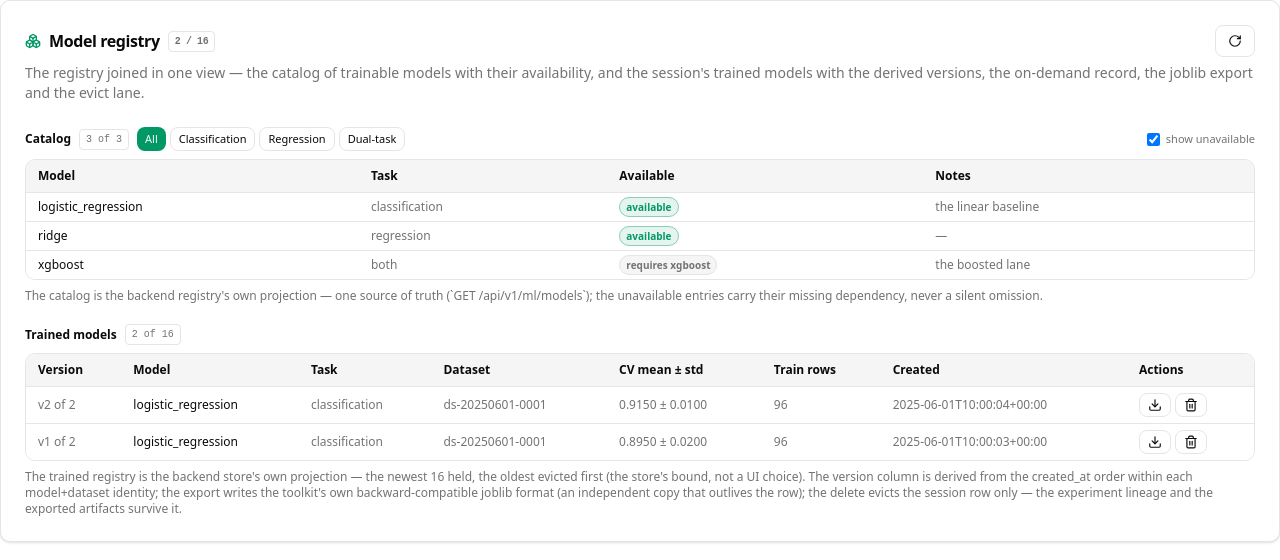
Scenario: ModelRegistry (part16 §15.3) › hides the unavailable entries when the availability filter is armed
This screenshot has width=1280, height=560.
Expected: the text "xgboost" is shown, [26,250,359,279]
Click the checkbox named "include unavailable catalog entries" at x=1153, y=139, box [1147,132,1160,146]
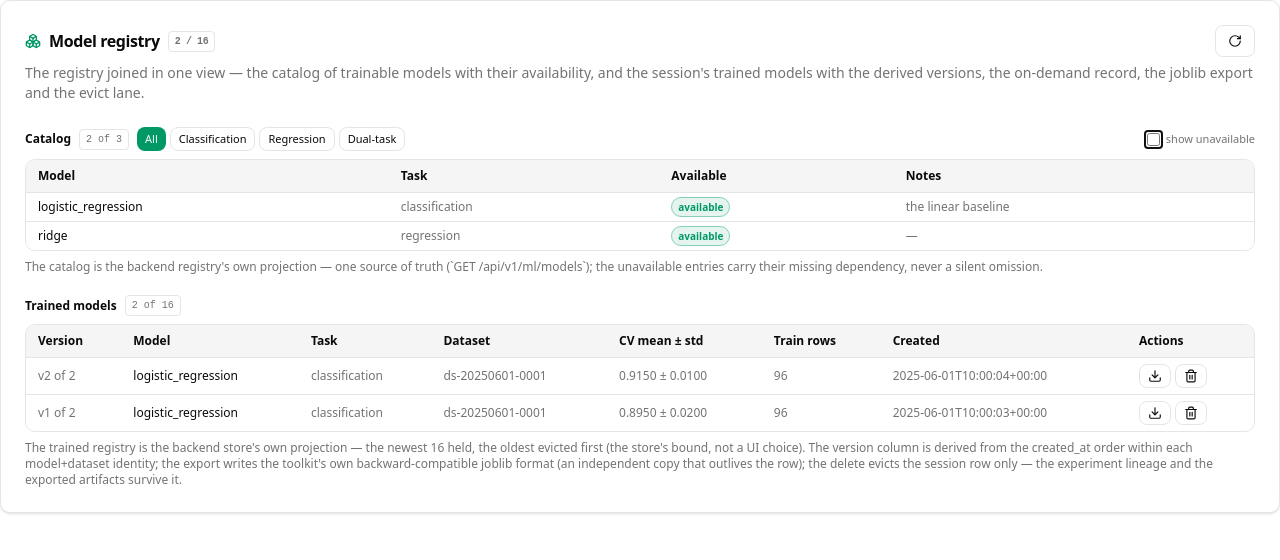
Expected: the text "ridge" is shown, [26,222,389,250]
Now the text "xgboost" is gone
